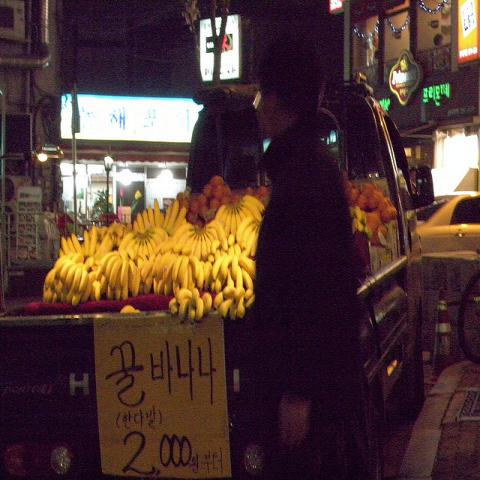car: (417, 188, 479, 256)
truck: (325, 84, 438, 436)
